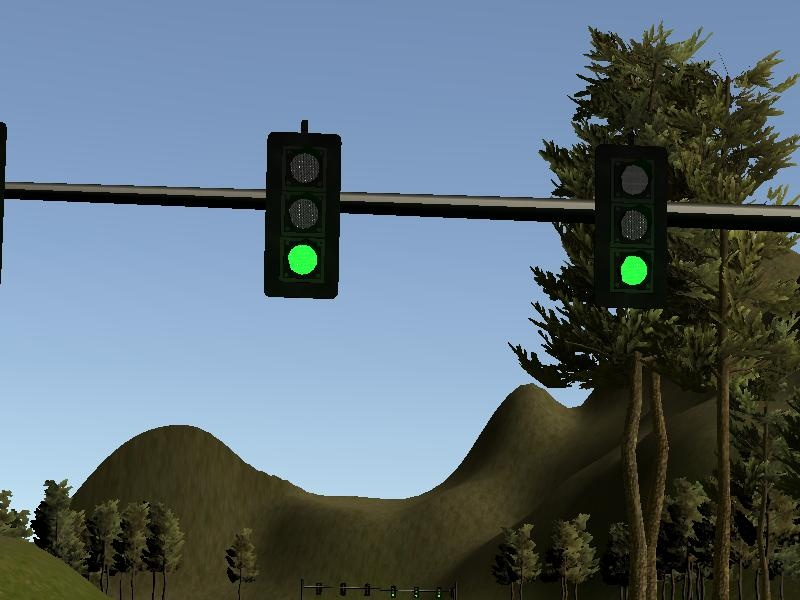GREEN: (263, 132, 341, 300), (594, 141, 667, 307)
